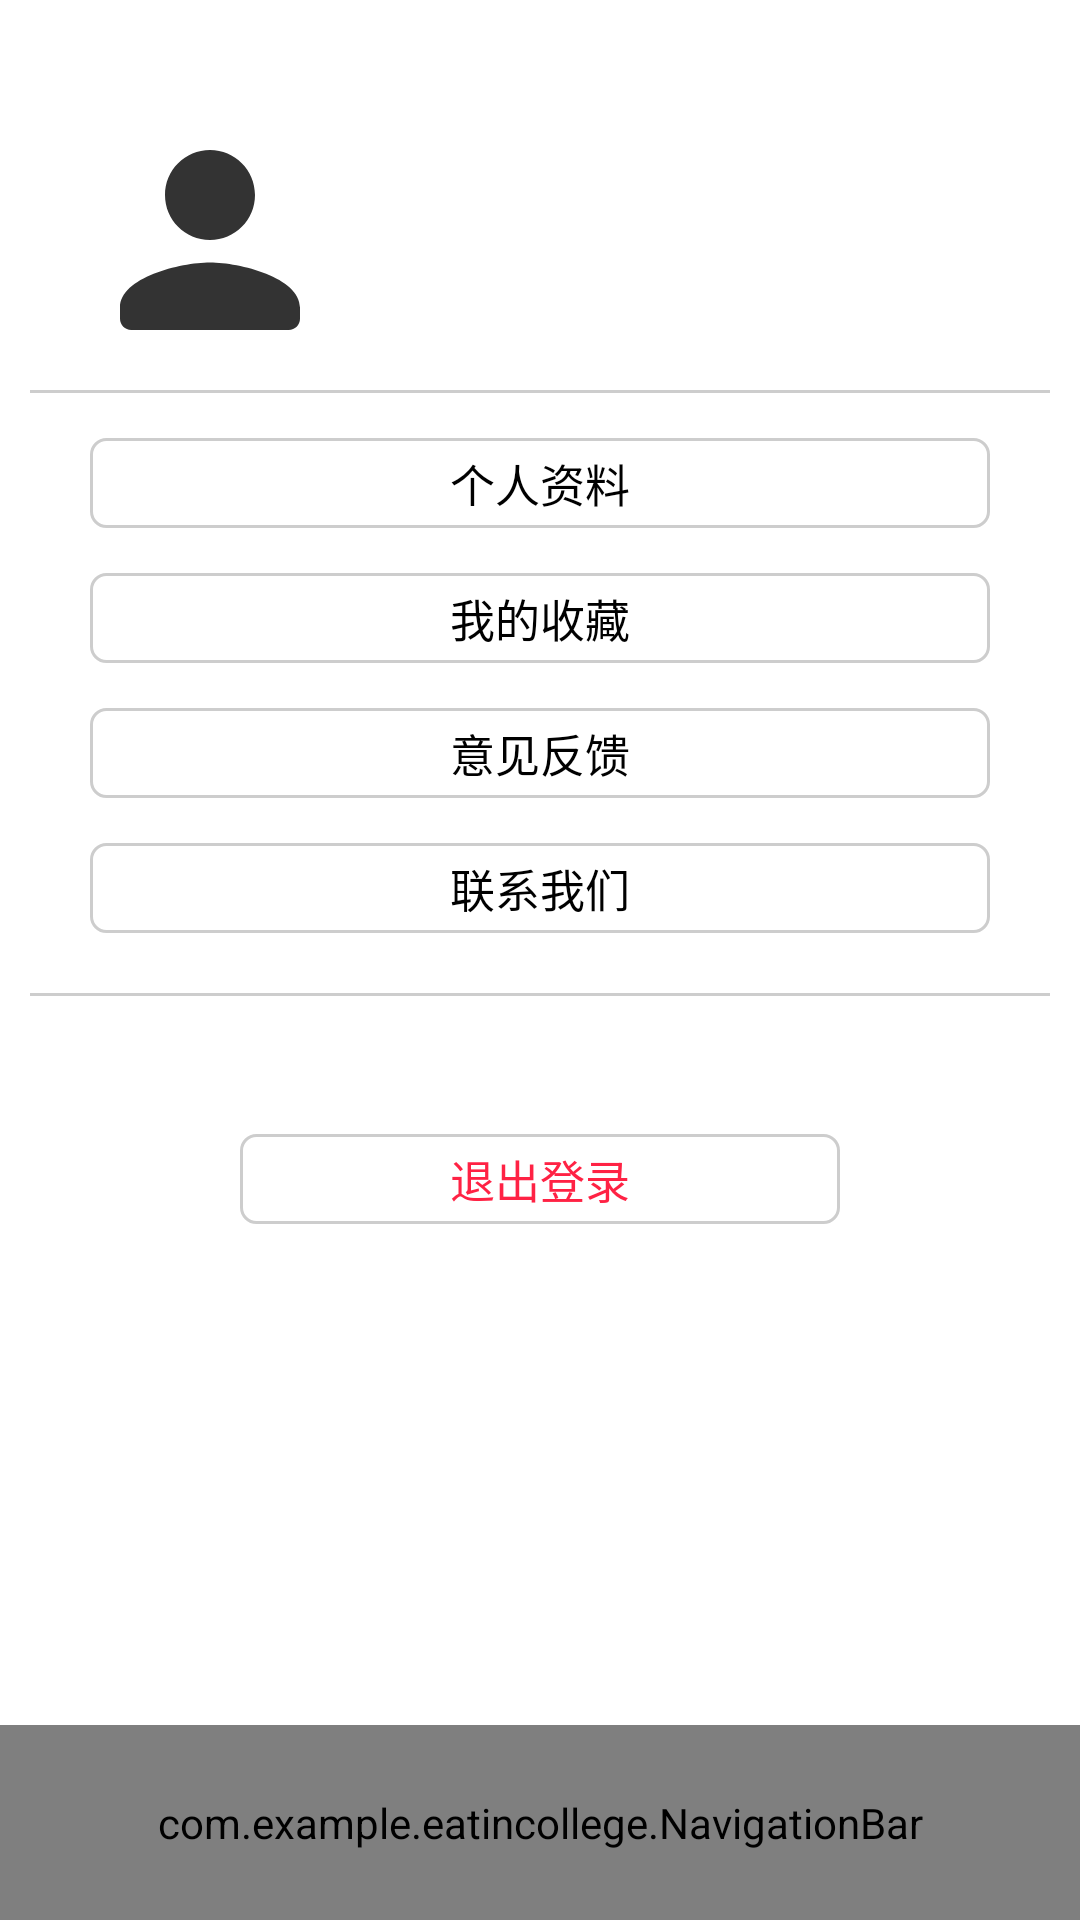

Icons on this 1080x1920 Android screen, each with its box as (x1, y1, x2, y2):
person: (120, 150, 300, 330)
